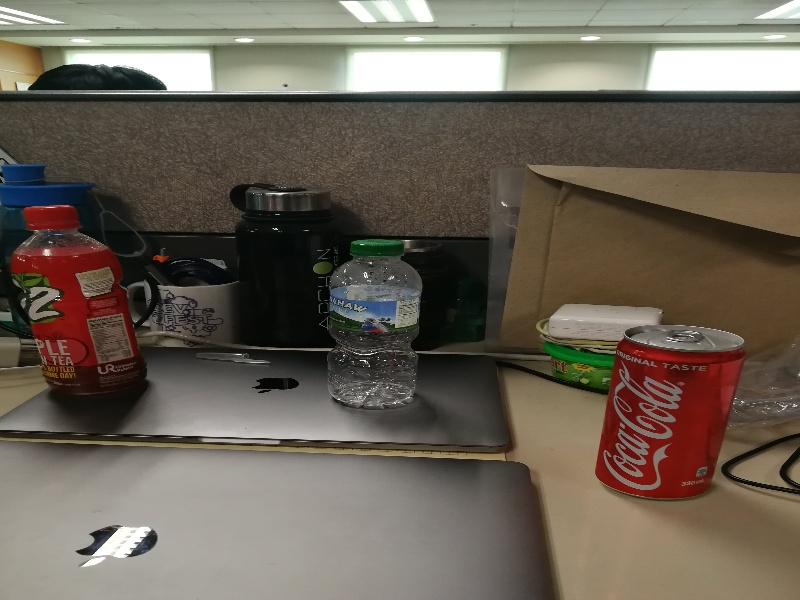PET #1: (11, 199, 150, 404), (325, 230, 421, 411)
